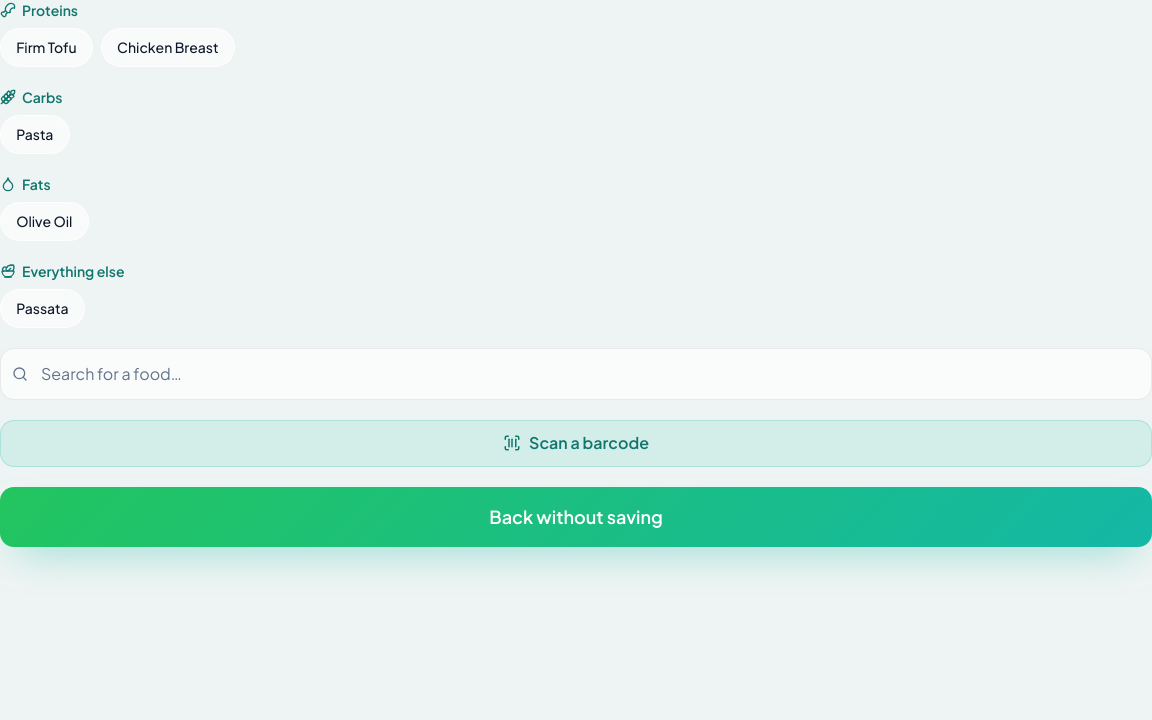
Test case: MealPicker › shows the reason when saving fails, and stays put
Click the button "Pasta". click: (35, 134)
box: [0,115,70,154]
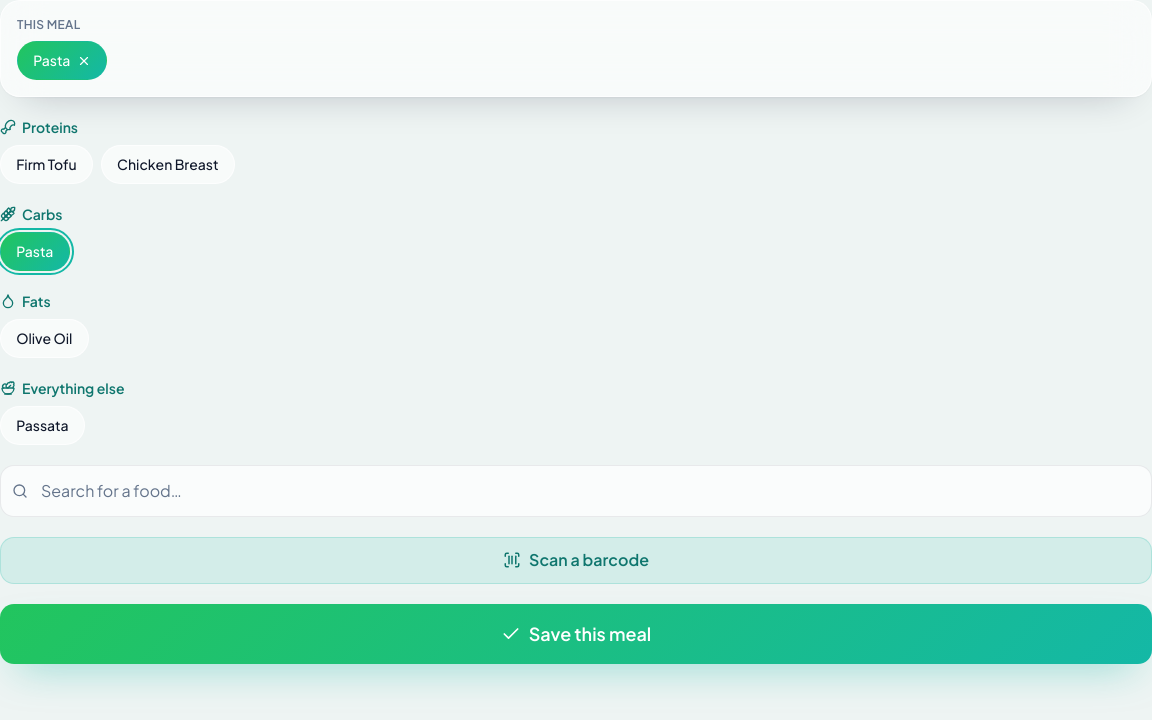
Click the button "Save this meal". click: (576, 634)
box: [0,604,1151,664]
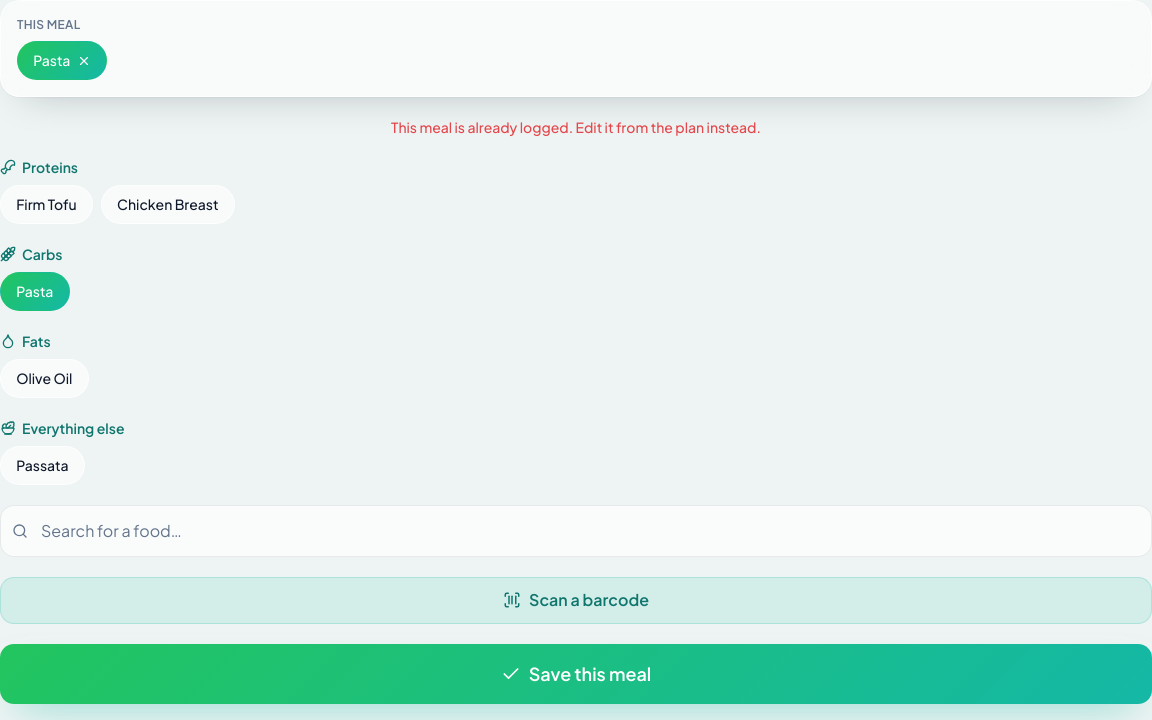
expect the text "This meal is already logged. Edit it from the plan instead." is shown: met, box [391,118,761,136]
